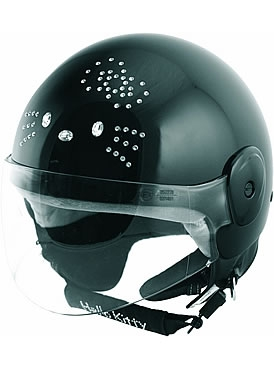helmet: (18, 40, 267, 299)
